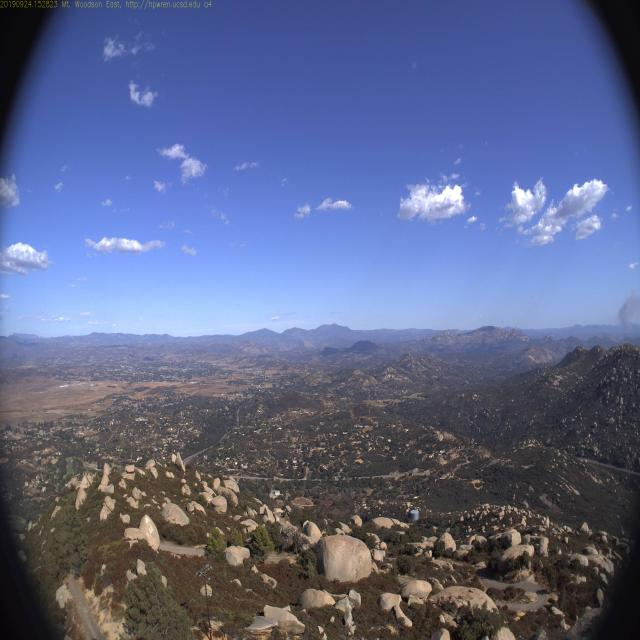smoke: (610, 287, 640, 336)
